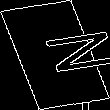N_W: (8, 30, 102, 80)
